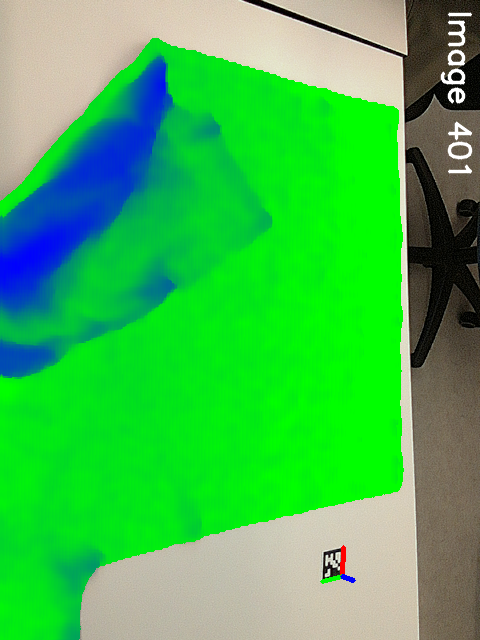V: (220, 186, 291, 241)
